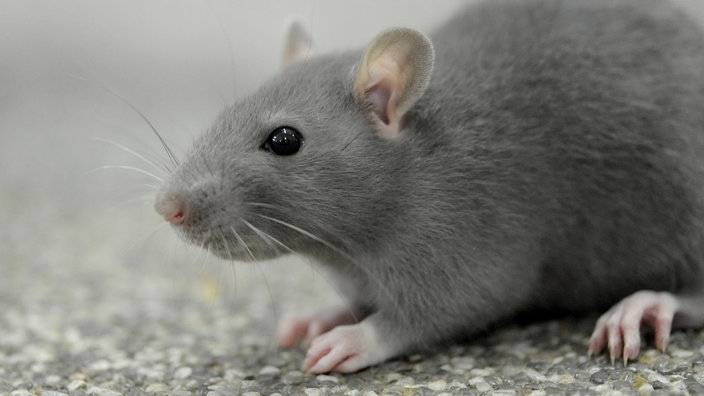rat: (131, 4, 676, 381)
